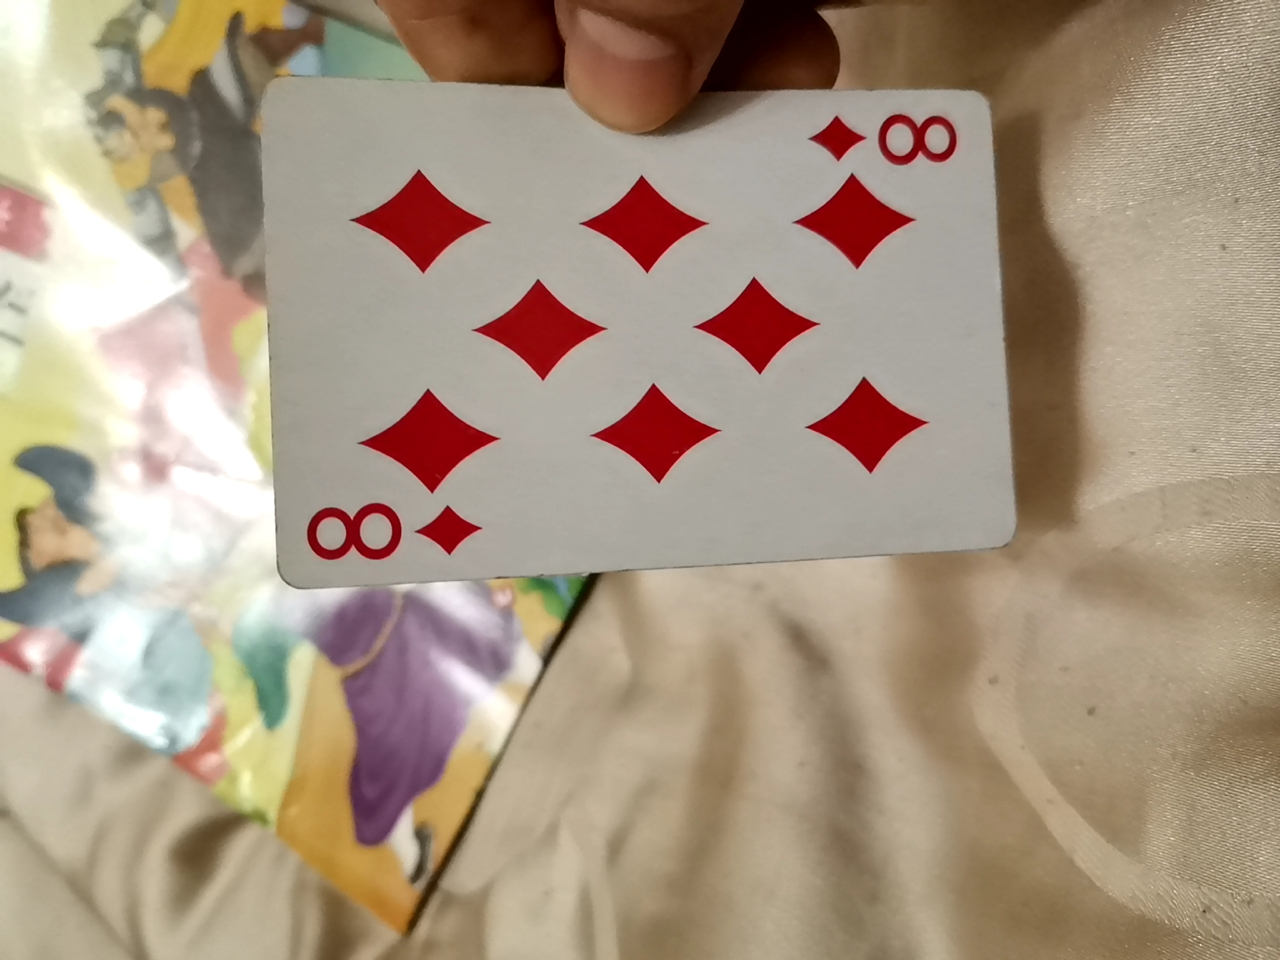fk 8: (266, 95, 1014, 604)
